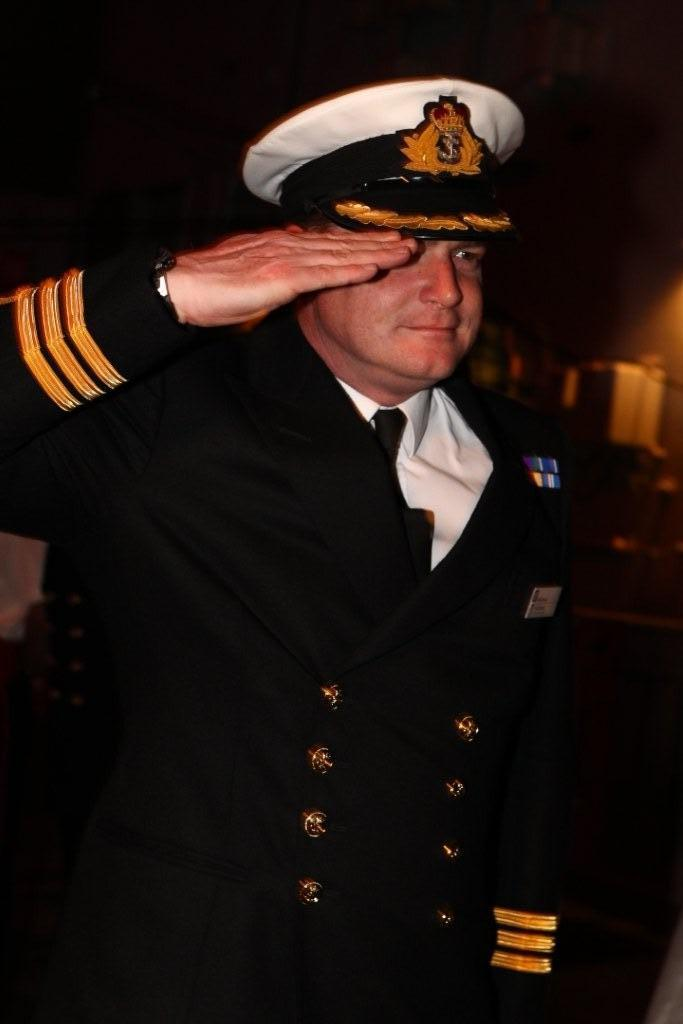Hat: (242, 75, 526, 241)
